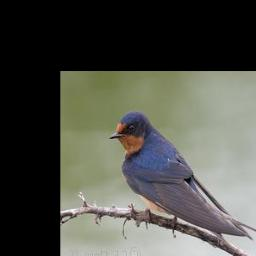Swallow: (109, 109, 256, 242)
